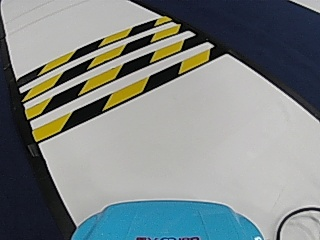bump: (28, 28, 164, 120)
